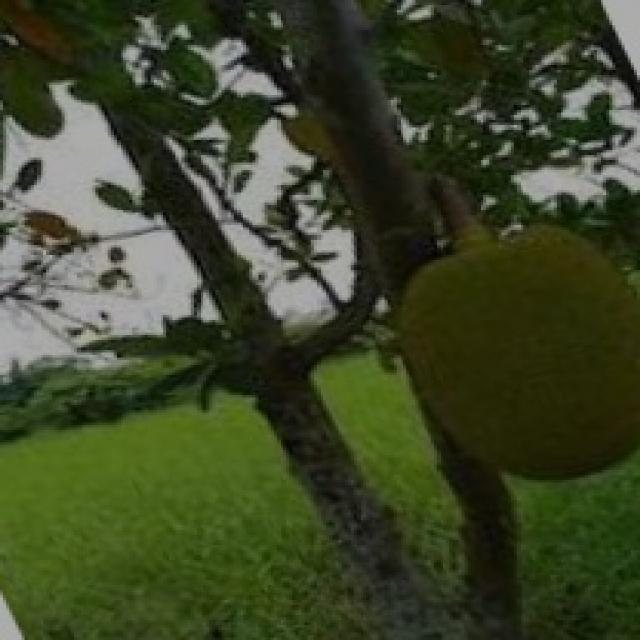Fruit: (0, 355, 394, 640), (351, 195, 640, 515)
